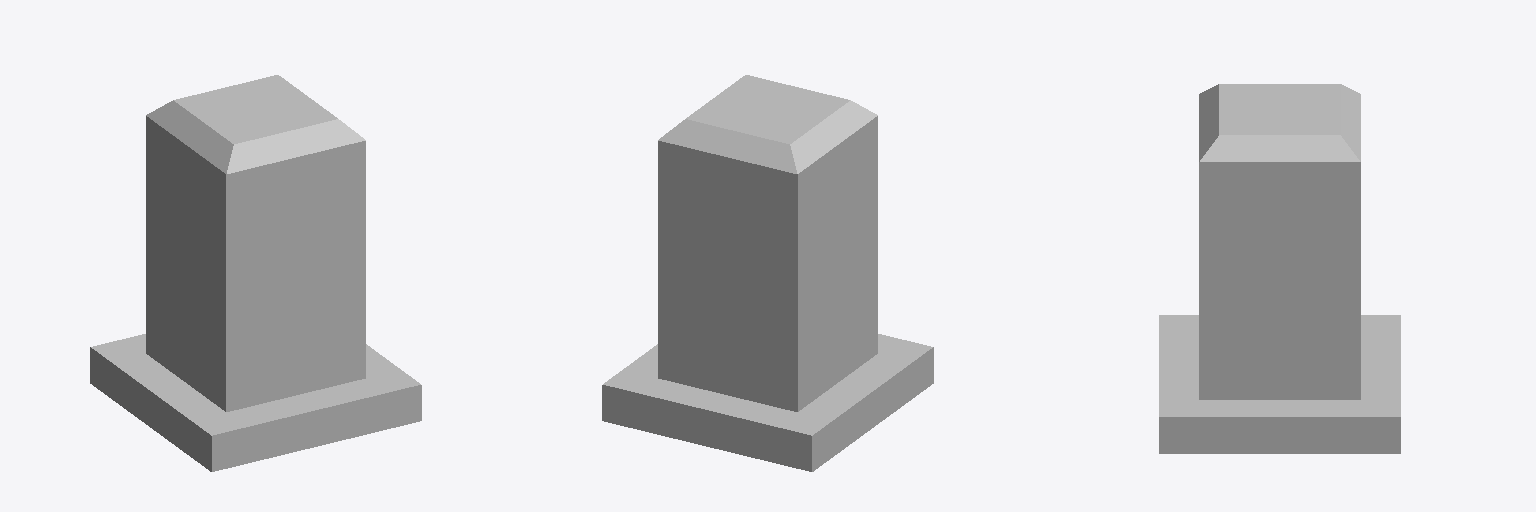
The model's file is misanthropic.obj.
3 renders of one model, left to right at view 1: azimuth 30°, elevation 25°; view 2: azimuth 150°, elevation 25°; view 3: azimuth 270°, elevation 25°, orthographic.
Size of the model in its own units: 12 by 16 by 12.